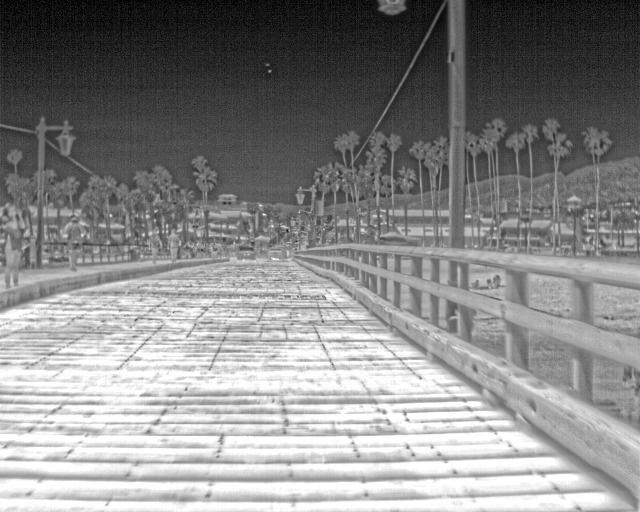bicycle: (265, 239, 286, 259), (236, 242, 256, 261)
empty: (0, 223, 27, 288), (61, 218, 88, 271), (165, 224, 180, 261), (147, 228, 163, 261)
